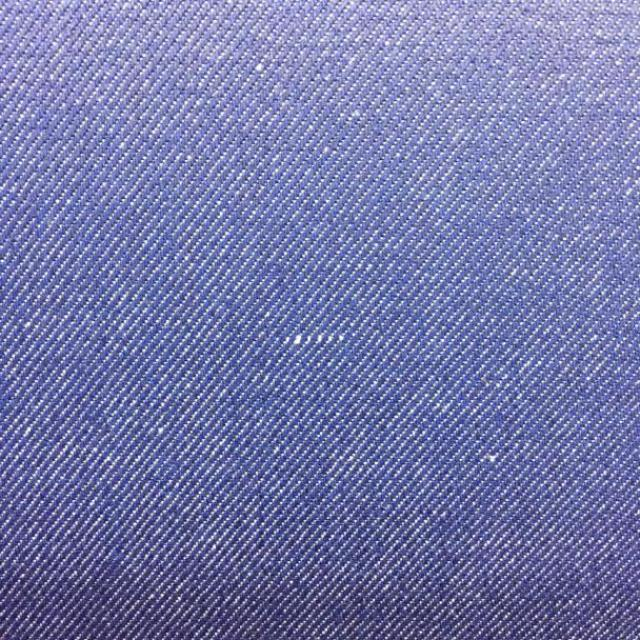Knot: (283, 332, 346, 348)
